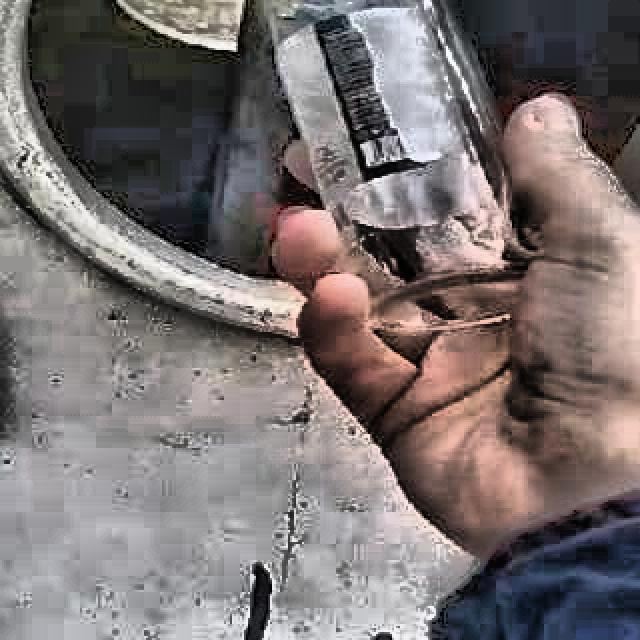glass: (260, 0, 531, 358)
